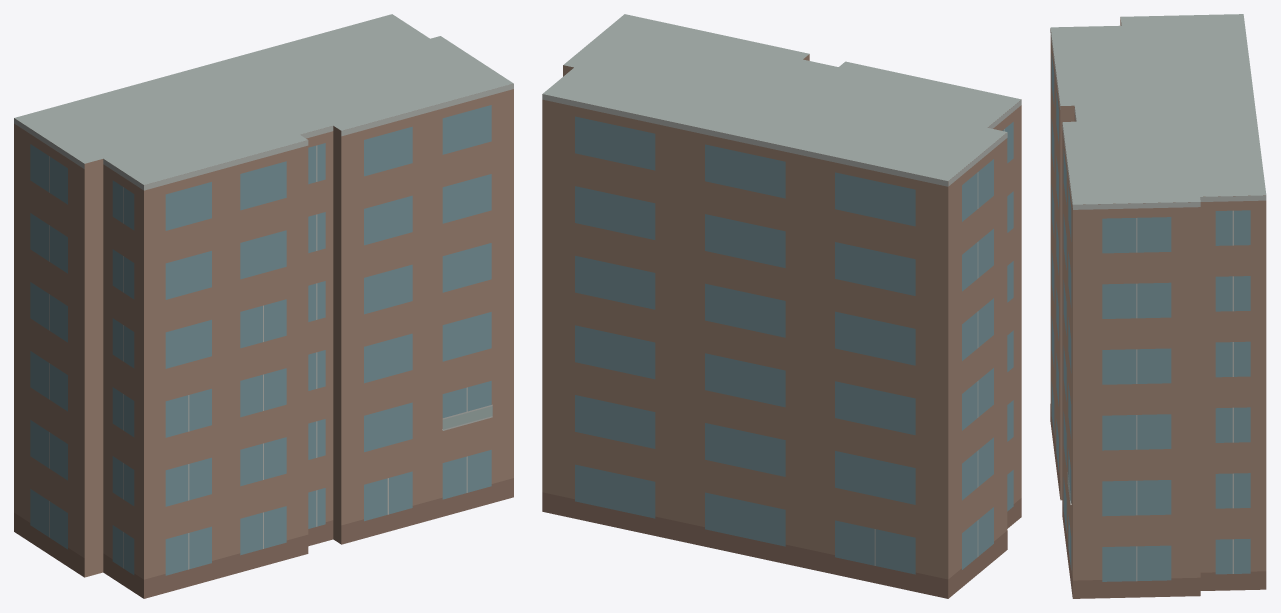
File: survey-upis-32990815.glb
The picture shows the model from 3 angles, left to right: view 1: azimuth 30°, elevation 25°; view 2: azimuth 150°, elevation 25°; view 3: azimuth 270°, elevation 25°; orthographic projection. The views are drawn at different scales.
Visible parts, largest first — view 1: survey-upis-32990815.tmp; view 2: survey-upis-32990815.tmp; view 3: survey-upis-32990815.tmp.
Part boxes in pixels (left/top/right/bottom): survey-upis-32990815.tmp: left=14, top=14, right=513, bottom=598; survey-upis-32990815.tmp: left=542, top=14, right=1021, bottom=598; survey-upis-32990815.tmp: left=1050, top=14, right=1266, bottom=598.
Size of the model in its own units: 18.99 by 18.3 by 9.09.
